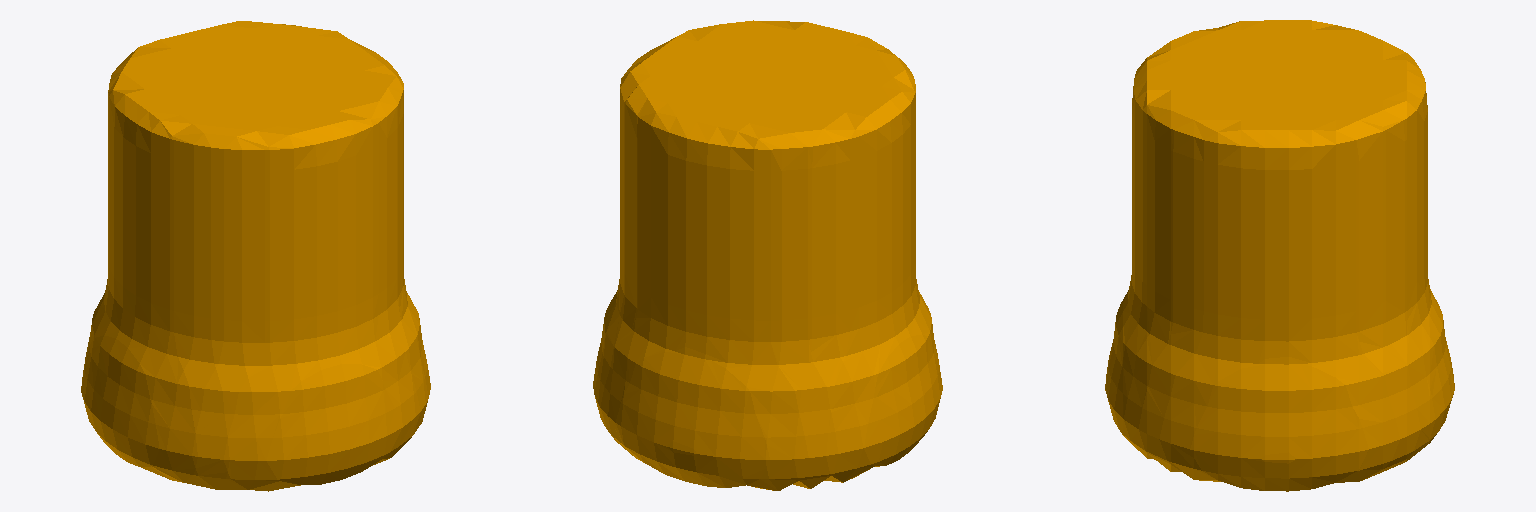
URDF robot description (cylinder_../../meshes/cylinders/cylinder_6.stl):
<?xml version="1.0" encoding="utf-8"?>  <robot name="cylinder_../../meshes/cylinders/cylinder_6.stl">   <link name="cylinder_../../meshes/cylinders/cylinder_6.stl">     <visual>       <geometry>         <mesh filename="../meshes/cylinders/cylinder_6.stl" scale="1 1 1"/>       </geometry>     </visual>     <collision>       <geometry>         <mesh filename="../meshes/cylinders/cylinder_6.stl" scale="1 1 1"/>       </geometry>     </collision>     <inertial>        <origin         xyz="0 0 0"         rpy="0 0 0" />       <mass value="0.27526118467727534"/>       <origin rpy="0 0 0" xyz="0 0 0"/>       <inertia ixx="0.00023072477370420235" ixy="-5.231479654892719e-08" ixz="8.515236636651147e-08" iyy="0.00023072433159341467" iyz="8.697017152427032e-08" izz="0.00015077554733539968"/>     </inertial>   </link>  </robot>

--- Facts derived from the render (not from the file) ---
Views: 3 orthographic renders of the robot side by side, from view 1: azimuth 30°, elevation 25°; view 2: azimuth 150°, elevation 25°; view 3: azimuth 270°, elevation 25°.
Robot: cylinder_../../meshes/cylinders/cylinder_6.stl — 1 links, 0 joints (none); root link cylinder_../../meshes/cylinders/cylinder_6.stl; default pose: every joint at zero.
Links seen in each view (by area): view 1: cylinder_../../meshes/cylinders/cylinder_6.stl; view 2: cylinder_../../meshes/cylinders/cylinder_6.stl; view 3: cylinder_../../meshes/cylinders/cylinder_6.stl.
Boxes of the visible links, <box> form: cylinder_../../meshes/cylinders/cylinder_6.stl: <box>81,21,430,491</box>; cylinder_../../meshes/cylinders/cylinder_6.stl: <box>593,20,942,490</box>; cylinder_../../meshes/cylinders/cylinder_6.stl: <box>1105,20,1454,491</box>.
Bounding box of the posed robot: 0.0741 × 0.0741 × 0.0823 m (x, y, z).
1 mesh visuals loaded from 1 distinct referenced files (1 binary STL).